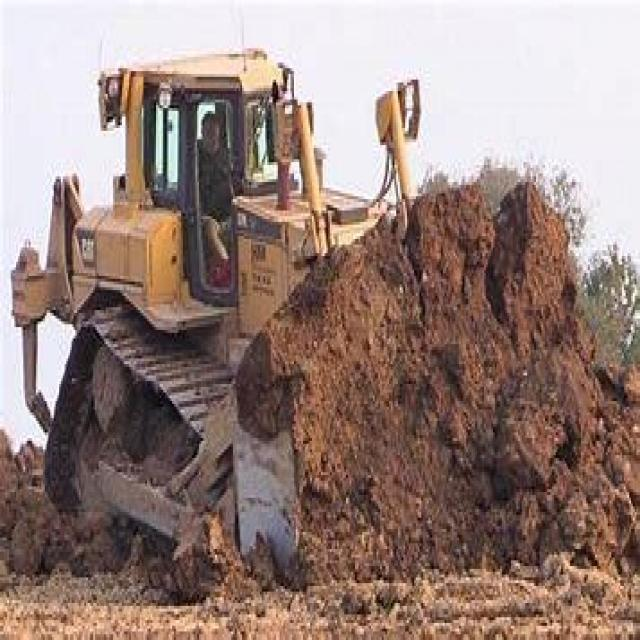Bulldozer: (9, 14, 604, 600)
